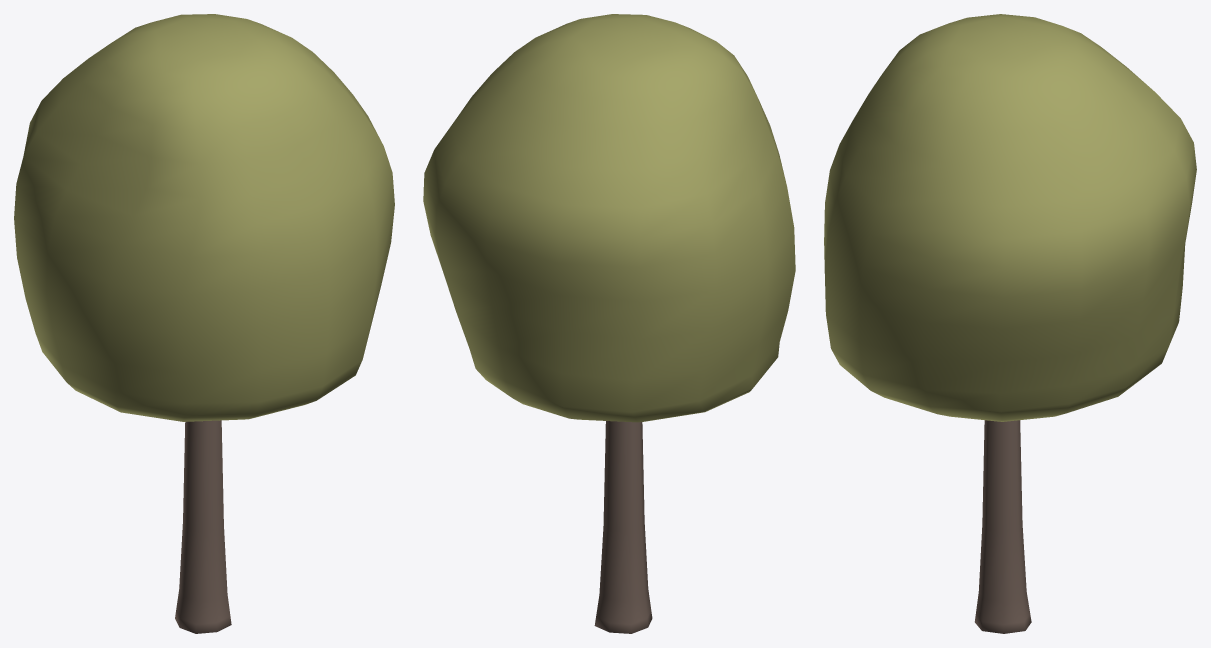
File: Tree_Round_Yellow.fbx
3 views of the same model, side by side, from view 1: azimuth 30°, elevation 25°; view 2: azimuth 150°, elevation 25°; view 3: azimuth 270°, elevation 25° (orthographic).
Visible parts, largest first — view 1: Leaves, Trunk; view 2: Leaves, Trunk; view 3: Leaves, Trunk.
Part boxes in pixels (x1,y1,x2,y2): Leaves: [14, 14, 394, 421]; Trunk: [175, 420, 231, 633]; Leaves: [423, 14, 795, 422]; Trunk: [594, 421, 652, 633]; Leaves: [824, 14, 1196, 421]; Trunk: [974, 420, 1031, 633].
Size of the model in its own units: 1.06 by 1.84 by 1.05.
